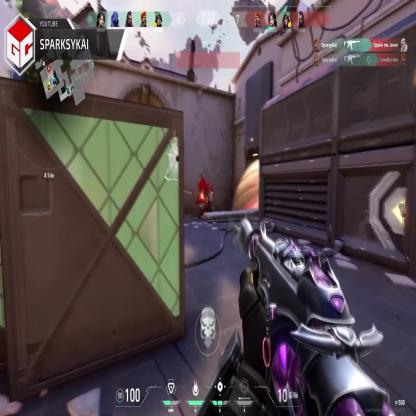enemy: (202, 188, 209, 223)
enemy_head: (203, 188, 208, 197)
